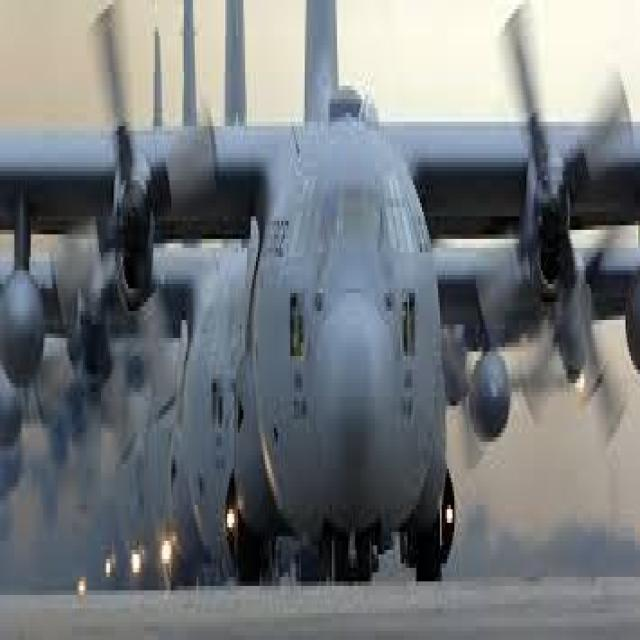C130: (0, 4, 640, 620)
